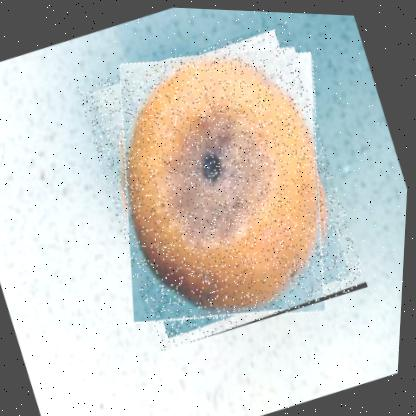orange_rotten: (65, 11, 381, 359)
